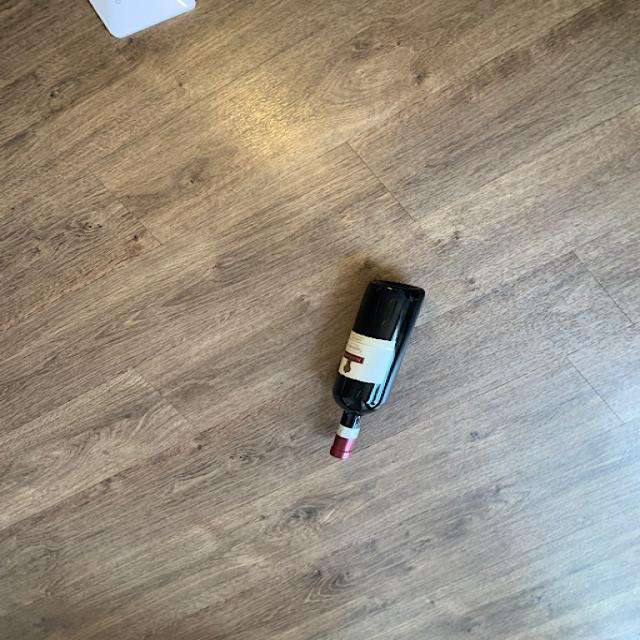litter: (324, 279, 426, 463)
